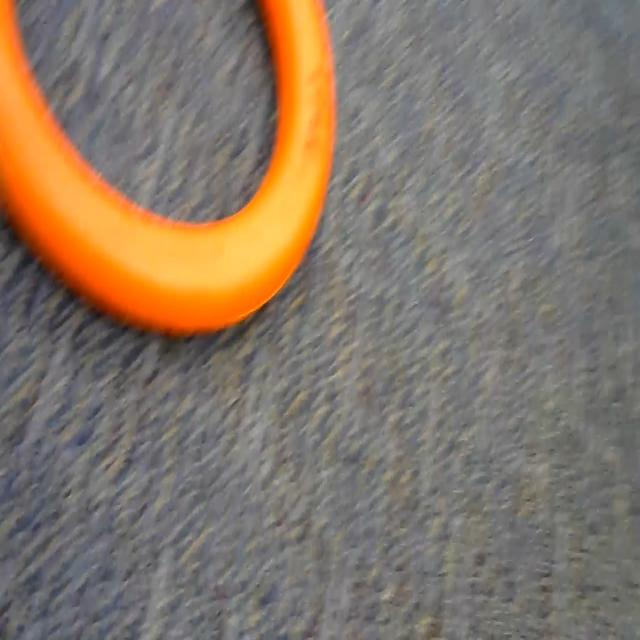note: (0, 0, 350, 357)
